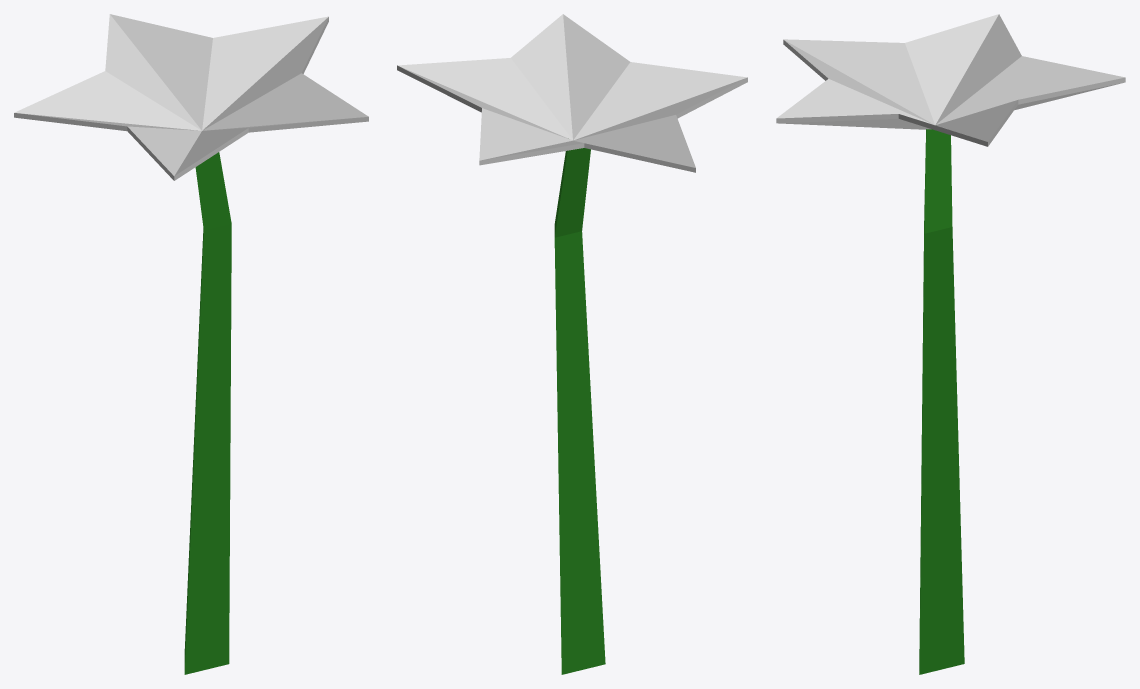
The model's file is Flower_camomile_mat.fbx.
The picture shows the model from 3 angles, left to right: view 1: azimuth 30°, elevation 25°; view 2: azimuth 150°, elevation 25°; view 3: azimuth 270°, elevation 25°; orthographic projection. The views are drawn at different scales.
Visible parts, largest first — view 1: Flower_camomile_mat; view 2: Flower_camomile_mat; view 3: Flower_camomile_mat.
Boxes of the visible parts, box(x1,y1,x2,y2) form: Flower_camomile_mat: box(14, 14, 368, 674); Flower_camomile_mat: box(397, 14, 747, 674); Flower_camomile_mat: box(776, 14, 1125, 674).
Bounding box in the file's own units: 0.7073 × 1.29 × 0.6813.
